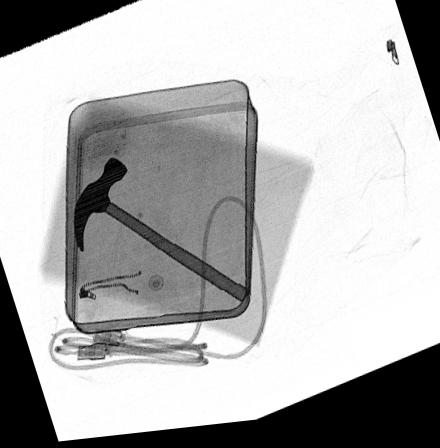Hammer: (73, 159, 247, 308)
